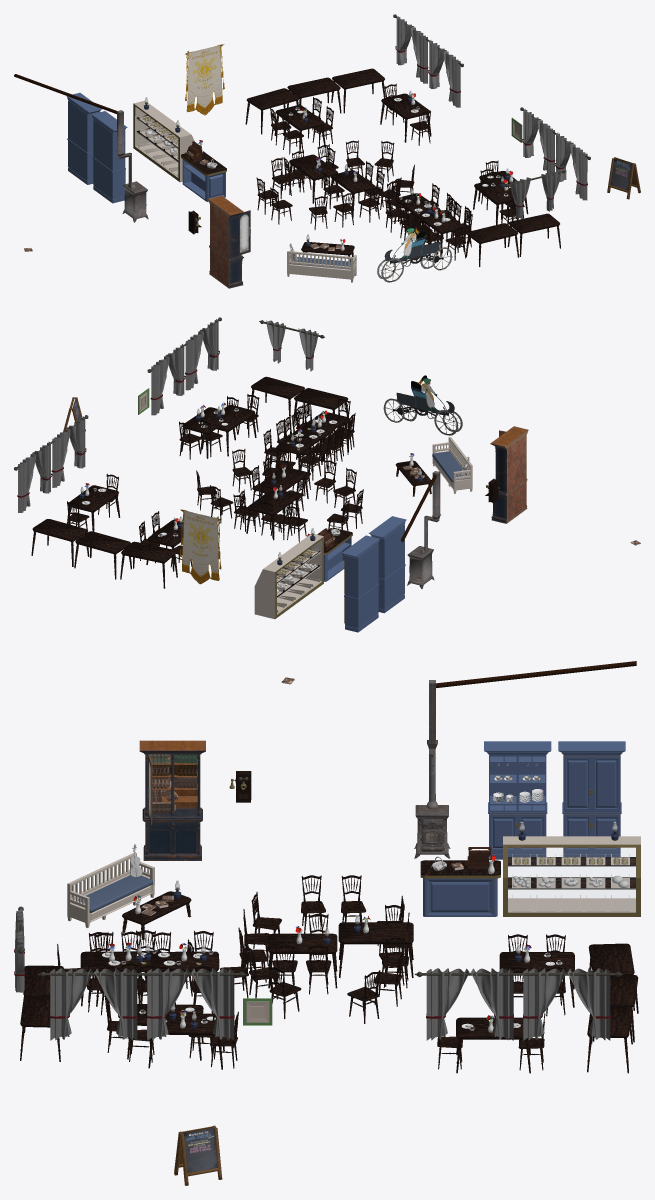
Rendered from FMC Dining Room.fbx.
The picture shows the model from 3 angles, top to bottom: view 1: azimuth 30°, elevation 25°; view 2: azimuth 150°, elevation 25°; view 3: azimuth 270°, elevation 25°; orthographic projection. The views are drawn at different scales.
Parts seen in each view (by area): view 1: Curtains, Cabinet, Mid Room Chairs.005, Mural Placeholder.001, Bookshelf.001, Mural Placeholder, Kitchen Sofa, Curtains.004, Display Case, Register Counter, Display Case Partitions, Mid Room Chairs.007 (+26 smaller); view 2: Curtains, Cabinet, Mid Room Chairs.005, Mural Placeholder.001, Display Case, Bookshelf.001, Curtains.004, Mural Placeholder, Kitchen Sofa, Display Case Partitions, Mid Room Chairs.010, Bookshelf (+24 smaller); view 3: Curtains, Cabinet, Mid Room Chairs.005, Register Counter, Curtains.004, Kitchen Sofa, Display Case, Bookshelf, Display Case Partitions, Cabinet Doors.002, Bookshelf.001, Exhaust.001 (+23 smaller).
Boxes of the visible parts, left/top/right/bottom form: Curtains: left=395, top=16, right=587, bottom=219; Cabinet: left=66, top=92, right=127, bottom=203; Mid Room Chairs.005: left=256, top=140, right=414, bottom=229; Mural Placeholder.001: left=185, top=44, right=224, bottom=115; Bookshelf.001: left=208, top=195, right=244, bottom=258; Mural Placeholder: left=377, top=225, right=452, bottom=282; Kitchen Sofa: left=287, top=249, right=356, bottom=282; Curtains.004: left=396, top=18, right=587, bottom=217; Display Case: left=133, top=101, right=194, bottom=182; Register Counter: left=181, top=151, right=226, bottom=201; Display Case Partitions: left=138, top=116, right=178, bottom=176; Mid Room Chairs.007: left=270, top=97, right=333, bottom=154; Curtains: left=17, top=319, right=318, bottom=512; Cabinet: left=342, top=516, right=406, bottom=632; Mid Room Chairs.005: left=196, top=449, right=363, bottom=542; Mural Placeholder.001: left=179, top=509, right=221, bottom=584; Display Case: left=254, top=534, right=323, bottom=619; Bookshelf.001: left=490, top=426, right=528, bottom=492; Curtains.004: left=18, top=320, right=317, bottom=512; Mural Placeholder: left=383, top=375, right=462, bottom=435; Kitchen Sofa: left=432, top=437, right=472, bottom=493; Display Case Partitions: left=276, top=549, right=319, bottom=612; Mid Room Chairs.010: left=263, top=419, right=333, bottom=480; Bookshelf: left=491, top=478, right=527, bottom=523; Curtains: left=14, top=908, right=610, bottom=1040; Cabinet: left=484, top=741, right=625, bottom=859; Mid Room Chairs.005: left=238, top=875, right=409, bottom=1023; Register Counter: left=420, top=860, right=500, bottom=916; Curtains.004: left=14, top=911, right=610, bottom=1040; Kitchen Sofa: left=67, top=853, right=154, bottom=927; Display Case: left=503, top=836, right=640, bottom=916; Bookshelf: left=142, top=807, right=202, bottom=860; Display Case Partitions: left=512, top=854, right=629, bottom=911; Cabinet Doors.002: left=592, top=756, right=620, bottom=851; Bookshelf.001: left=139, top=740, right=205, bottom=815; Exhaust.001: left=426, top=661, right=636, bottom=808.
Size of the model in its own units: 2070 by 432 by 1302.
